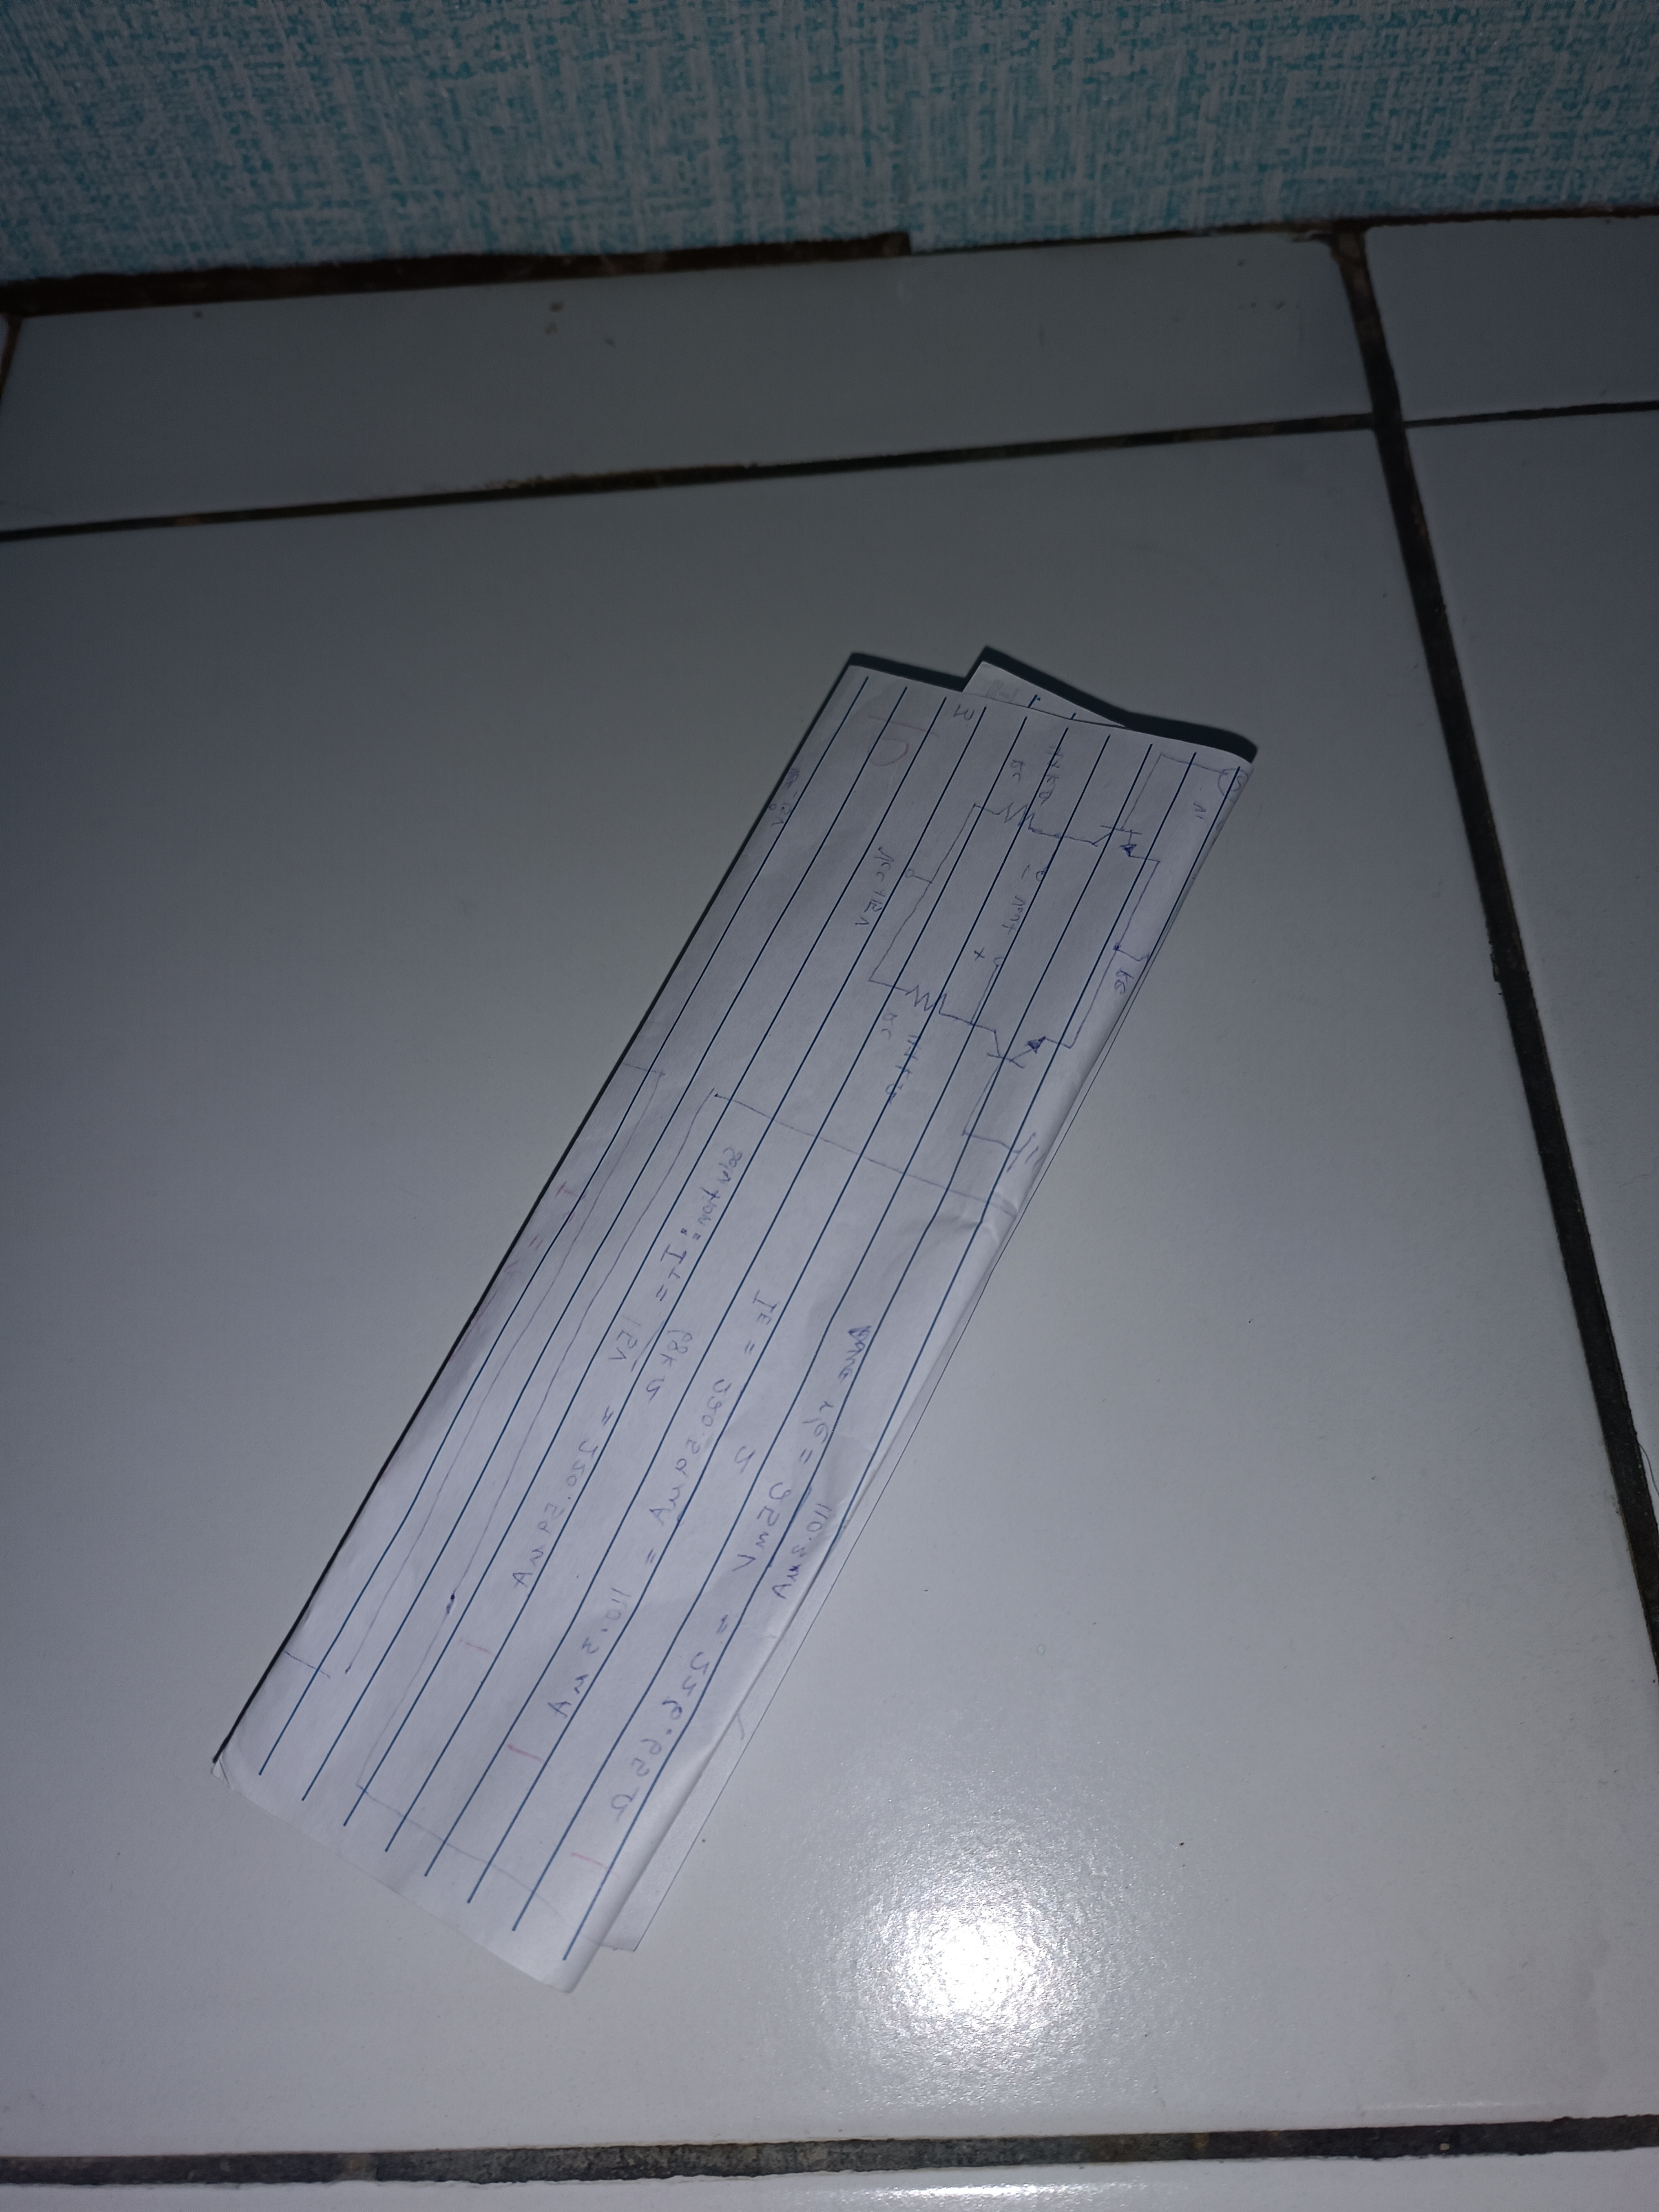Paper: (155, 571, 1342, 2006)
